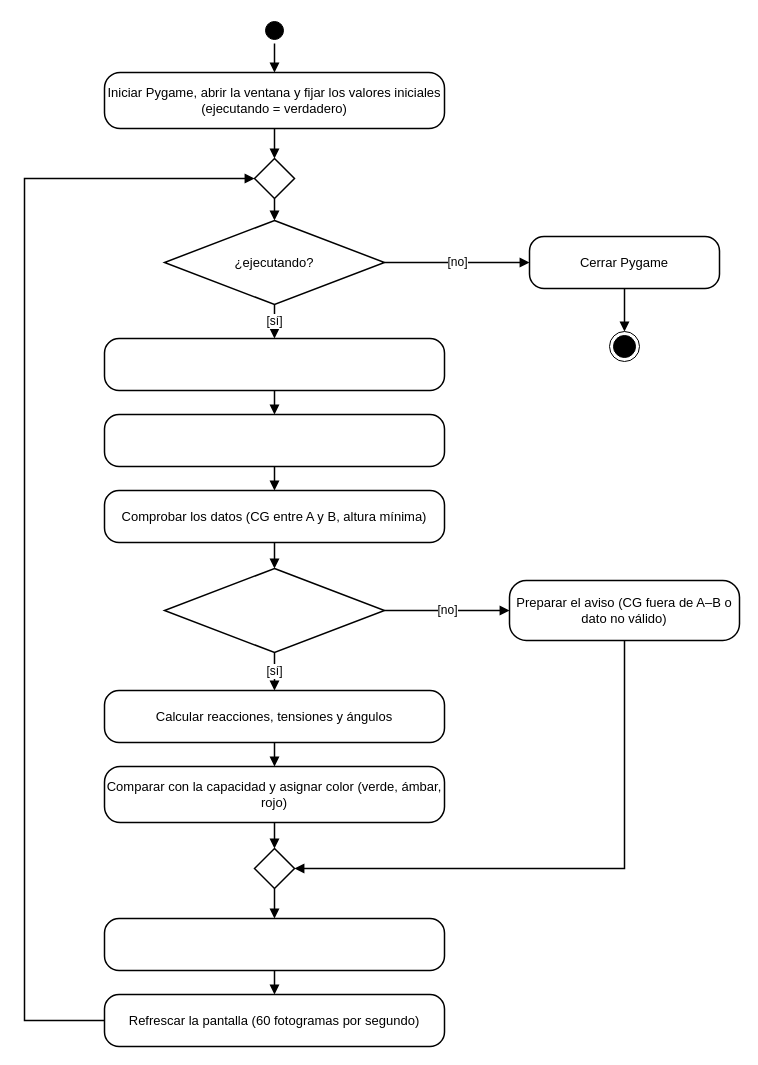
The diagram is 758 pixels wide and 1065 high, and some of its shapes have lost their labels. The centre of each missing label's shape, as x and y in pixels:
Actualizar los parámetros (masa, CG, altura, capacidad): the point at 274,440
Dibujar la escena, los paneles y los avisos: the point at 274,944
Leer los eventos (cerrar, clics en botones, teclas): the point at 274,364
¿Izado válido?: the point at 274,610
